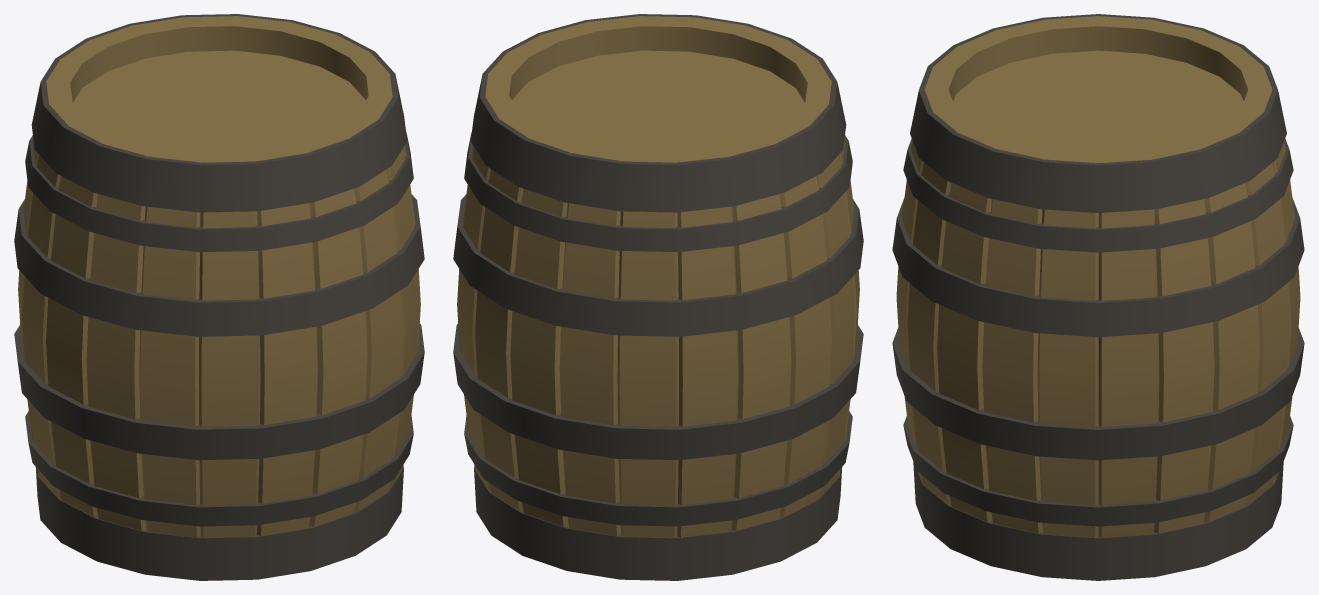
Rendered from barrel.fbx.
The picture shows the model from 3 angles, left to right: view 1: azimuth 30°, elevation 25°; view 2: azimuth 150°, elevation 25°; view 3: azimuth 270°, elevation 25°; orthographic projection.
Parts seen in each view (by area): view 1: polySurface8; view 2: polySurface8; view 3: polySurface8.
Part boxes in pixels (x1=…): polySurface8: x1=14, y1=14, x2=424, y2=580; polySurface8: x1=453, y1=14, x2=863, y2=580; polySurface8: x1=892, y1=14, x2=1304, y2=580.
Size of the model in its own units: 11.43 by 12.69 by 11.43.
